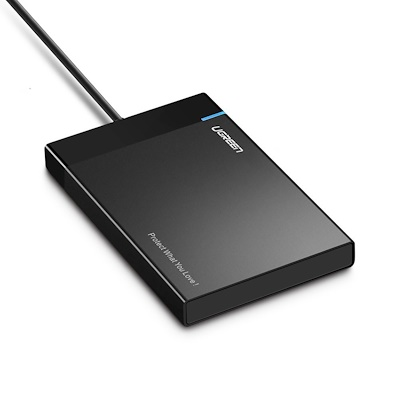Hard Disk Enclosure: (28, 90, 372, 343)
